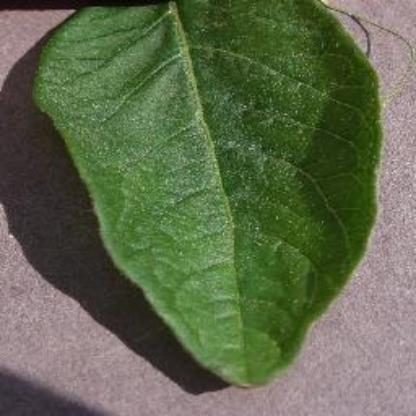Healthy-plant: (27, 6, 398, 394)
